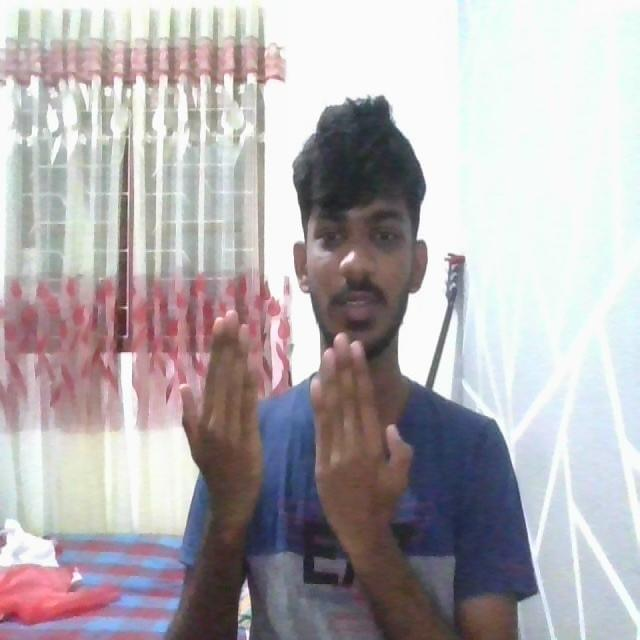ThankYou: (164, 284, 530, 640)
